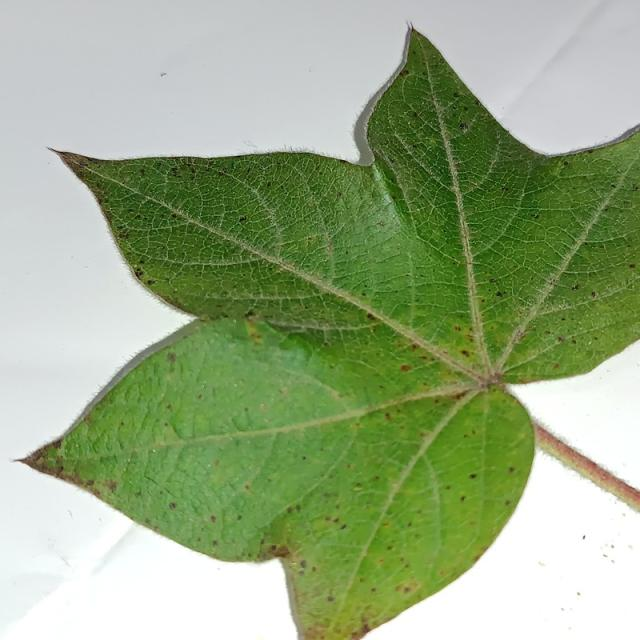Bacterial_Blight: (156, 420, 185, 447), (300, 620, 332, 640), (231, 407, 254, 432), (88, 480, 111, 502), (322, 224, 336, 257), (43, 446, 62, 469), (582, 241, 611, 252), (395, 361, 414, 377), (484, 380, 504, 394), (273, 544, 292, 558), (103, 478, 117, 492), (50, 438, 63, 452), (453, 390, 468, 400), (9, 455, 24, 464), (515, 330, 527, 341), (166, 351, 176, 364), (169, 166, 180, 176), (382, 411, 394, 420), (250, 332, 262, 341), (361, 623, 370, 634), (118, 230, 129, 239), (134, 268, 143, 278), (244, 310, 255, 318), (399, 69, 409, 77), (366, 312, 375, 320), (86, 478, 95, 486), (459, 123, 468, 131), (460, 350, 470, 357), (169, 502, 177, 510), (269, 544, 277, 552), (210, 515, 217, 523), (299, 560, 306, 568), (147, 279, 155, 286), (306, 236, 314, 243), (67, 509, 73, 518), (325, 515, 332, 522), (286, 506, 293, 513), (454, 325, 461, 332), (557, 336, 564, 343), (508, 466, 515, 473), (403, 586, 410, 593), (327, 595, 334, 602), (239, 216, 246, 223), (298, 568, 305, 575), (354, 482, 362, 488), (469, 473, 477, 479), (495, 291, 503, 297), (571, 285, 579, 291), (538, 561, 546, 567), (245, 484, 251, 491), (460, 495, 466, 502), (340, 523, 346, 530), (236, 514, 242, 521), (591, 291, 597, 298), (628, 263, 635, 269), (553, 363, 560, 369), (413, 111, 419, 118), (171, 213, 178, 219), (453, 92, 460, 98), (138, 259, 145, 265), (260, 403, 266, 410), (244, 406, 250, 413), (291, 561, 298, 567), (505, 500, 511, 506), (212, 540, 218, 546), (371, 587, 377, 593), (282, 386, 288, 392), (337, 191, 342, 198), (489, 278, 496, 283), (610, 183, 617, 188), (160, 72, 167, 77), (301, 455, 307, 460), (534, 214, 540, 219), (378, 221, 384, 226), (563, 161, 569, 166), (636, 184, 640, 191), (164, 422, 169, 427), (628, 545, 633, 550), (174, 288, 179, 293), (246, 440, 251, 445), (224, 424, 229, 429), (229, 436, 234, 441), (308, 67, 313, 72), (361, 292, 366, 296), (582, 535, 586, 540), (603, 554, 608, 558), (560, 608, 565, 612), (201, 384, 205, 389), (207, 463, 211, 468), (127, 458, 131, 463), (392, 214, 396, 219), (232, 319, 237, 323), (577, 592, 581, 596), (324, 258, 328, 262), (152, 449, 156, 453), (233, 383, 237, 387), (588, 341, 592, 345), (611, 544, 614, 549)
Cotton: (22, 30, 639, 639)
